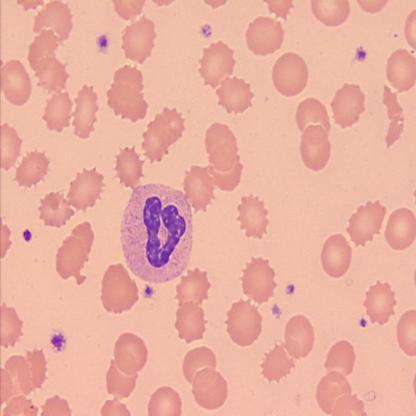Segmented neutrophil: (120, 181, 196, 287)
